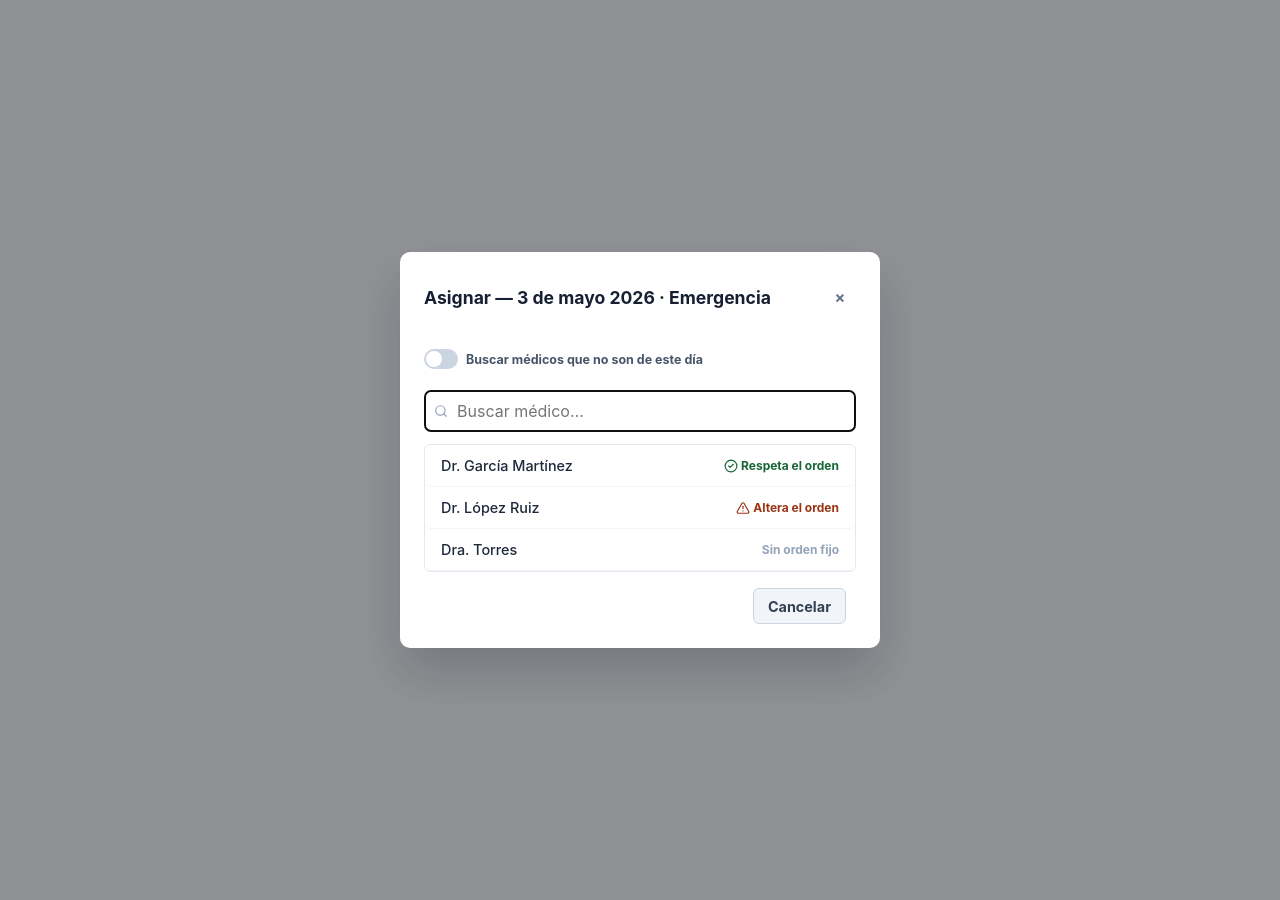
Test: AssignDoctorModal › filtra por nombre al escribir en el buscador
Expected: the text "Dr. García Martínez" is shown, [441,457,573,474]
In the field with placeholder "Buscar médico…": (640, 411) [424,390,856,432], type "García"
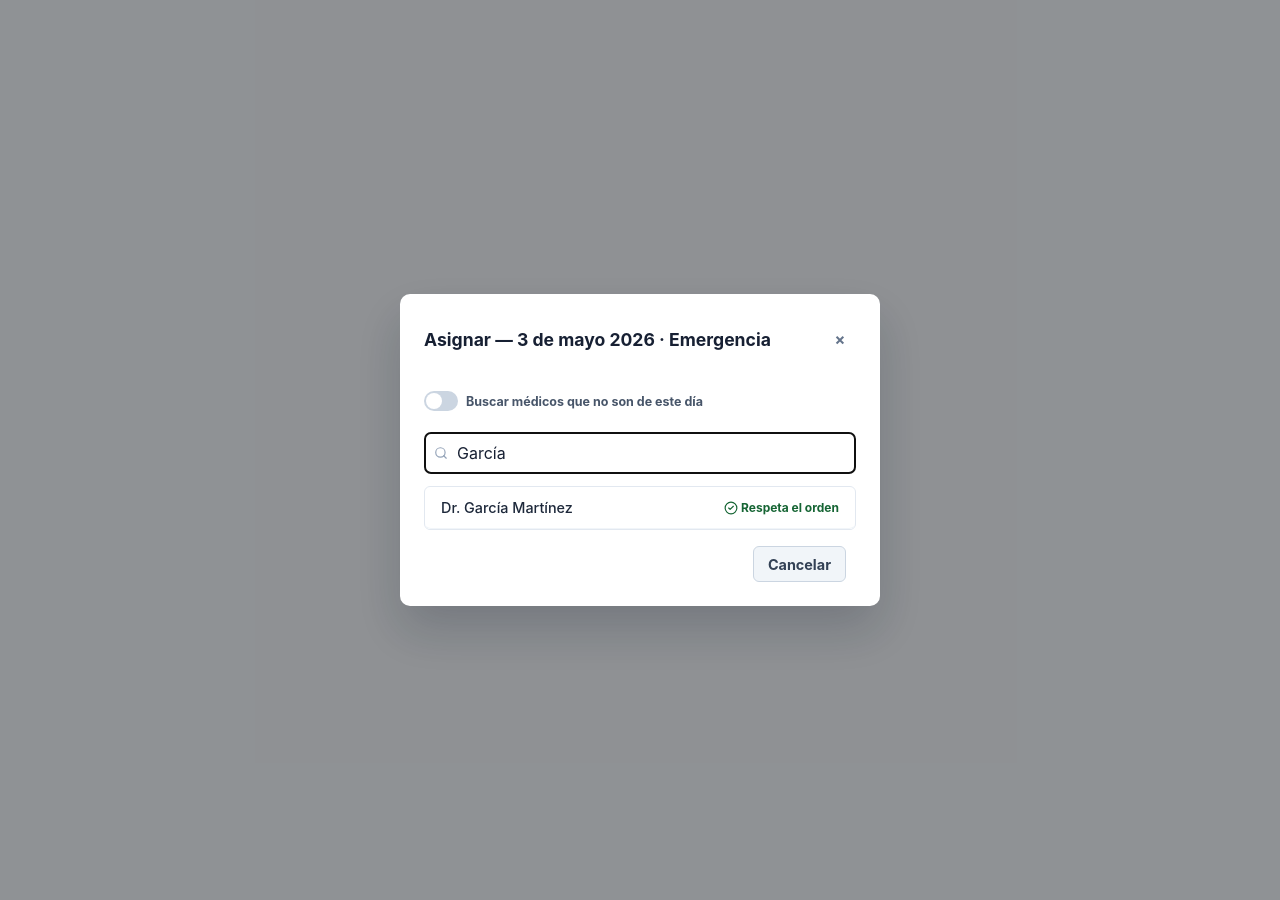
Expected: the text "Dr. García Martínez" is shown, [441,499,573,516]
Now the button "Dr. López Ruiz" is gone
